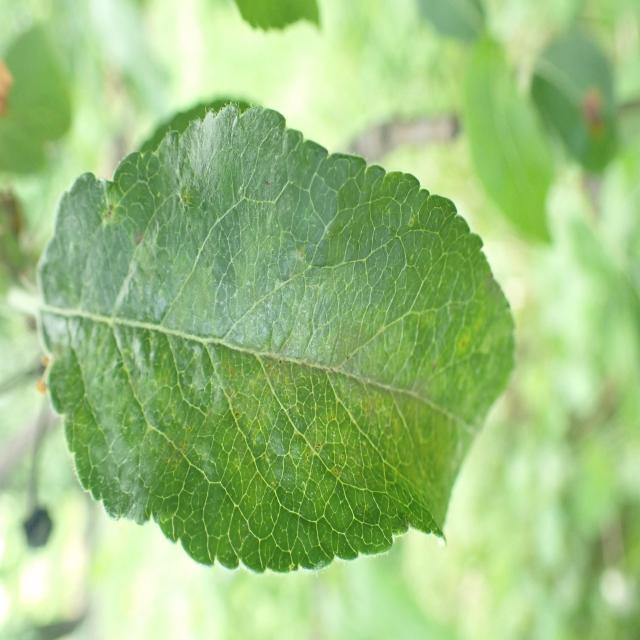scab: (44, 180, 502, 512)
